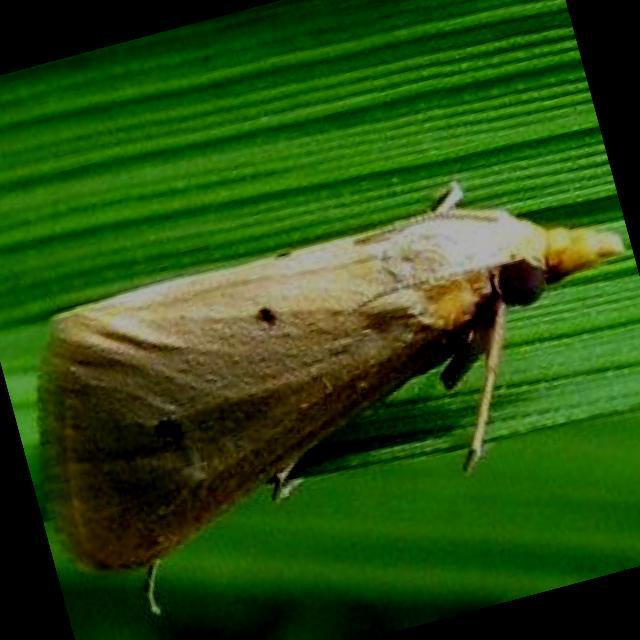stem borer: (38, 183, 624, 614)
